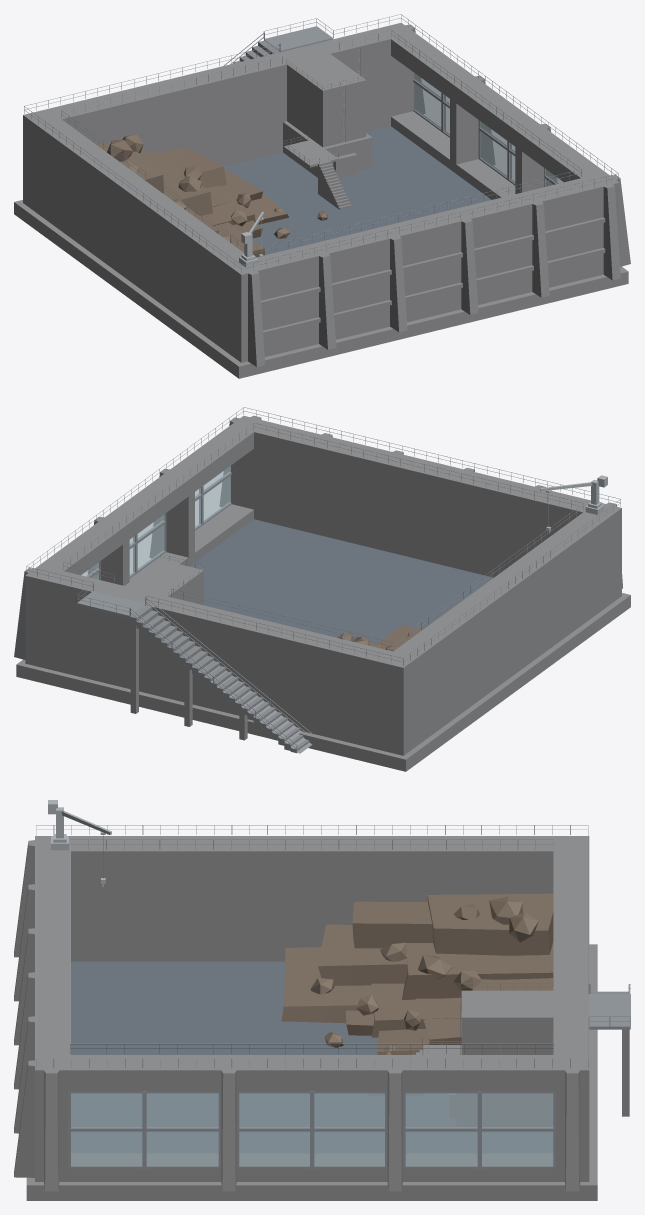
The model's file is dinosaur_paddock_50x50.glb.
3 views of the same model, one above another, from view 1: azimuth 30°, elevation 25°; view 2: azimuth 150°, elevation 25°; view 3: azimuth 270°, elevation 25° (orthographic). The views are drawn at different scales.
Visible parts, largest first — view 1: Main_Perimeter_Walls, Pit_Floor, Exterior_Buttresses, Interior_Access_Tower, Foundation_Plinth, Quarry_Rock_Terraces, Catwalk_Railings, Observation_Glass_Panels, Window_Steel_Mullions, Feeding_Jib_Crane, Tower_Railings_and_Ladders; view 2: Main_Perimeter_Walls, Pit_Floor, Foundation_Plinth, Catwalk_Railings, Catwalk_Stairs, Observation_Glass_Panels, Interior_Access_Tower, Exterior_Buttresses, Catwalk_Stairs_Pillars, Window_Steel_Mullions, Stair_Ramp, Catwalk_Stairs_Rail (+2 smaller); view 3: Main_Perimeter_Walls, Pit_Floor, Observation_Glass_Panels, Quarry_Rock_Terraces, Exterior_Buttresses, Foundation_Plinth, Interior_Access_Tower, Catwalk_Railings, Window_Steel_Mullions, Feeding_Jib_Crane, Catwalk_Stairs_Pillars, Boulder_Corner_1 (+1 smaller).
Part boxes in pixels (x1,y1,x2,y2): Main_Perimeter_Walls: (23, 22, 619, 362); Pit_Floor: (224, 126, 491, 255); Exterior_Buttresses: (248, 24, 630, 366); Interior_Access_Tower: (283, 54, 372, 209); Foundation_Plinth: (14, 200, 628, 378); Quarry_Rock_Terraces: (96, 142, 288, 257); Catwalk_Railings: (24, 14, 618, 272); Observation_Glass_Panels: (414, 73, 563, 186); Window_Steel_Mullions: (413, 79, 557, 186); Feeding_Jib_Crane: (239, 211, 264, 267); Tower_Railings_and_Ladders: (284, 47, 367, 204); Main_Perimeter_Walls: (25, 415, 621, 755); Pit_Floor: (189, 519, 493, 643); Foundation_Plinth: (16, 593, 630, 771); Catwalk_Railings: (26, 407, 620, 665); Catwalk_Stairs: (130, 605, 309, 753); Observation_Glass_Panels: (81, 466, 230, 579); Interior_Access_Tower: (125, 559, 203, 605); Exterior_Buttresses: (14, 415, 622, 659); Catwalk_Stairs_Pillars: (130, 621, 247, 740); Window_Steel_Mullions: (87, 472, 231, 579); Stair_Ramp: (129, 605, 312, 753); Catwalk_Stairs_Rail: (130, 597, 312, 752); Main_Perimeter_Walls: (35, 836, 589, 1181); Pit_Floor: (71, 961, 552, 1152); Observation_Glass_Panels: (71, 1093, 553, 1165); Quarry_Rock_Terraces: (281, 893, 553, 1054); Exterior_Buttresses: (14, 840, 580, 1191); Foundation_Plinth: (26, 944, 597, 1200); Interior_Access_Tower: (368, 990, 553, 1126); Catwalk_Railings: (36, 825, 630, 1068); Window_Steel_Mullions: (68, 1091, 555, 1168); Feeding_Jib_Crane: (48, 800, 111, 886); Catwalk_Stairs_Pillars: (622, 1029, 629, 1116); Boulder_Corner_1: (489, 896, 522, 924).
Bounding box in the file's own units: 52.75 × 16.78 × 55.67.
